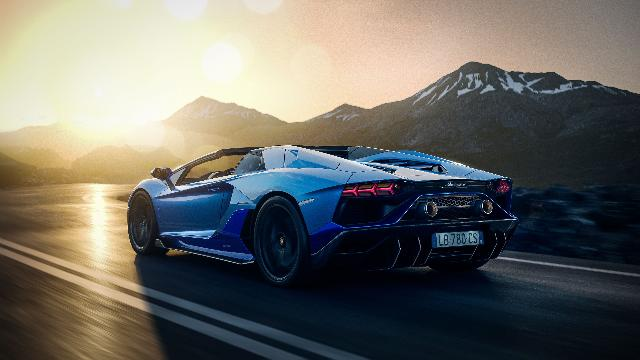lamborghini: (127, 144, 519, 284)
